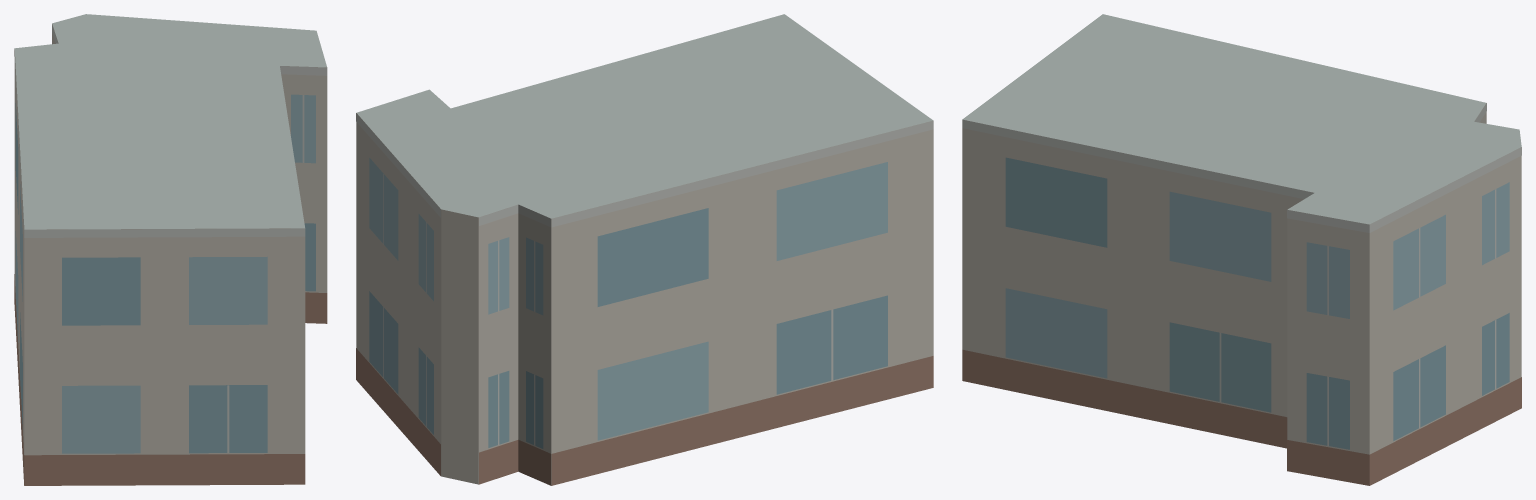
File: survey-upis-32506034.glb
3 renders of one model, left to right at view 1: azimuth 30°, elevation 25°; view 2: azimuth 150°, elevation 25°; view 3: azimuth 270°, elevation 25°, orthographic. The views are drawn at different scales.
Parts seen in each view (by area): view 1: survey-upis-32506034.tmp; view 2: survey-upis-32506034.tmp; view 3: survey-upis-32506034.tmp.
Boxes of the visible parts, x1,y1,x2,y2 form: survey-upis-32506034.tmp: [14, 14, 327, 485]; survey-upis-32506034.tmp: [356, 14, 933, 485]; survey-upis-32506034.tmp: [962, 14, 1521, 485].
Bounding box in the file's own units: 12.79 × 7.4 × 14.37.
